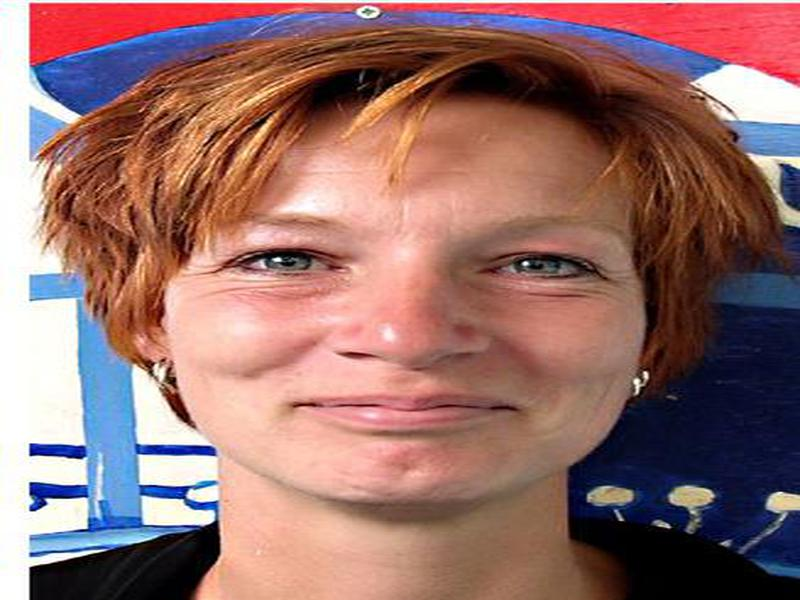without_mask: (168, 104, 636, 510)
